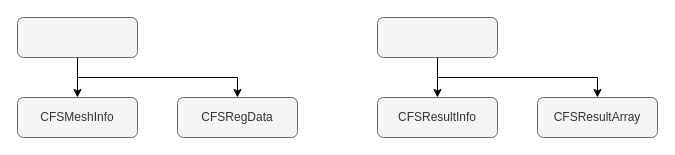
Image size: 675x155. Some labels were removed from this diagram. The shapes that lost their labels are listed below. From the top down, each one's centre as x and y in pixels, then its label:
At point 77,37: "CFSMeshData".
At point 437,37: "CFSResultData".
